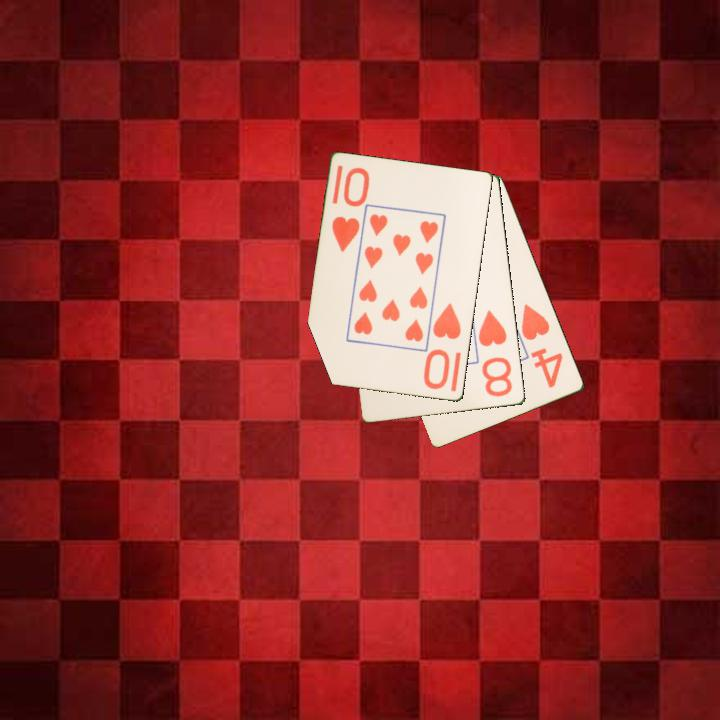10h: (422, 299, 464, 393), (328, 164, 370, 256)
4h: (518, 300, 566, 391)
8h: (475, 307, 516, 400)
